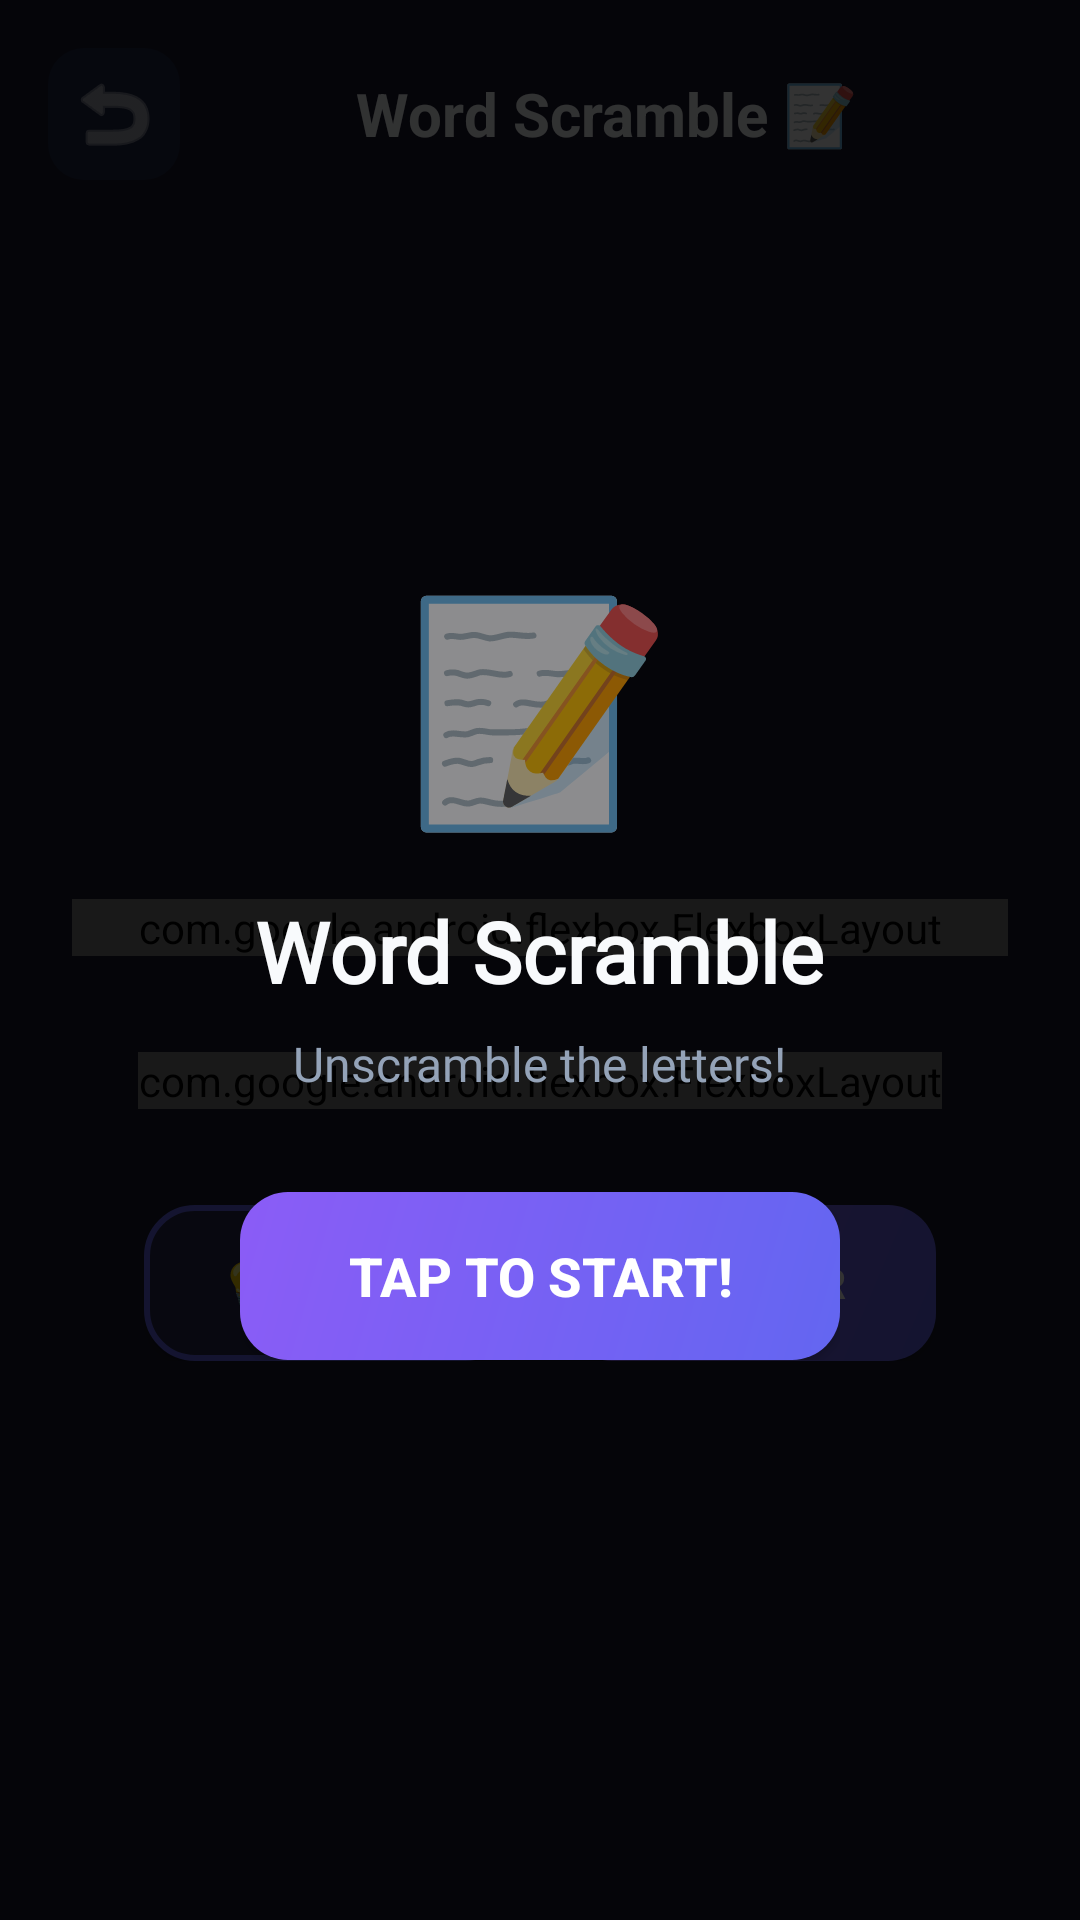

Icon bounding boxes for this 1080*1920 phone screenshot, format BBox(x1, y1, x2, y2):
Back: BBox(83, 86, 147, 144)
